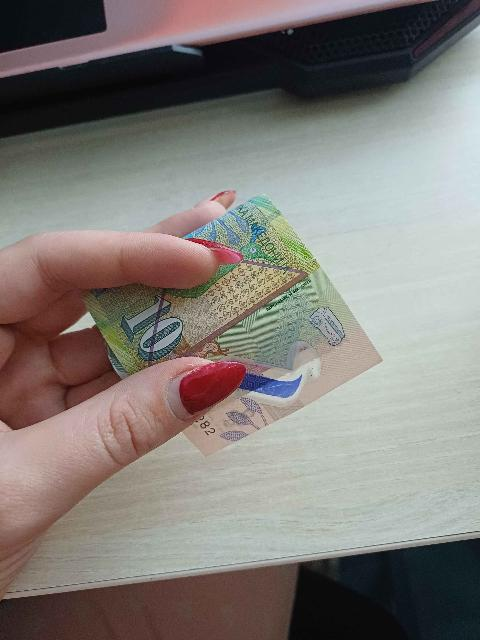10_note: (90, 189, 374, 459)
